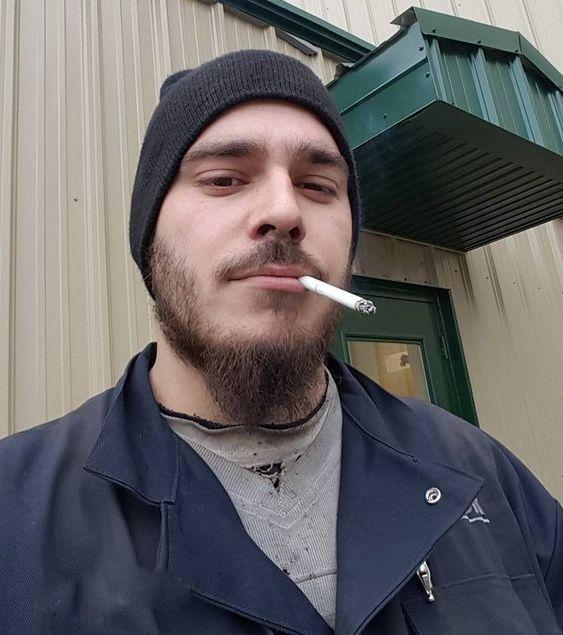cigarette: (297, 276, 376, 313)
